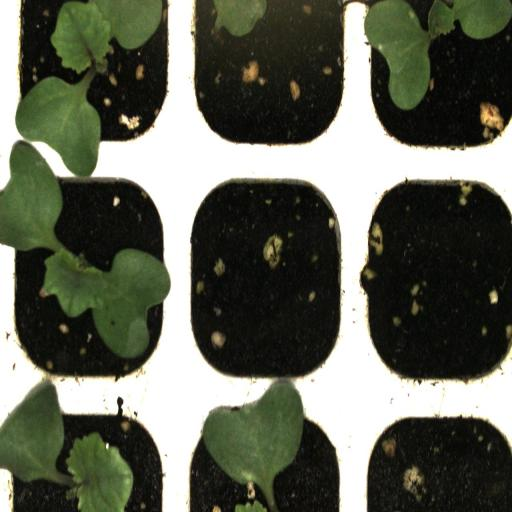Folha: (201, 380, 304, 500), (50, 0, 164, 74), (211, 0, 272, 41)
Germinacao: (5, 173, 182, 386), (7, 0, 182, 172), (354, 3, 512, 173), (0, 396, 176, 512)
